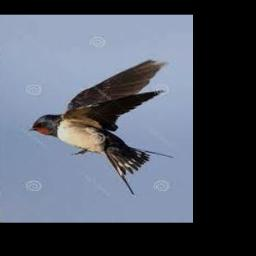Swallow: (29, 59, 174, 193)
